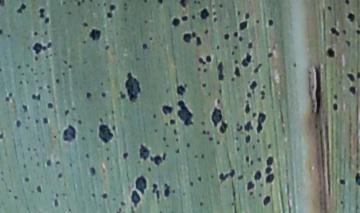tarspot: (122, 69, 141, 104), (176, 100, 195, 130), (29, 39, 55, 55), (96, 122, 114, 144), (61, 123, 77, 145), (87, 26, 104, 44), (214, 59, 227, 82), (209, 104, 222, 127), (129, 190, 143, 209), (218, 169, 237, 183), (255, 111, 267, 133), (138, 143, 151, 163), (135, 175, 148, 193), (323, 46, 338, 61), (173, 84, 189, 97), (160, 103, 174, 117), (15, 2, 29, 16), (327, 25, 340, 40), (151, 153, 167, 165), (241, 53, 253, 69), (198, 6, 209, 23), (344, 11, 357, 25), (351, 169, 360, 188), (162, 181, 171, 199), (13, 116, 23, 132), (83, 88, 94, 102), (253, 169, 264, 183), (261, 193, 272, 207), (96, 89, 110, 100), (87, 164, 98, 178), (217, 123, 230, 134), (238, 19, 248, 33), (246, 179, 256, 193), (232, 65, 242, 79), (345, 69, 355, 83), (348, 84, 357, 99), (193, 32, 202, 47), (264, 154, 275, 166), (19, 102, 31, 113), (44, 101, 57, 111), (265, 16, 275, 29), (248, 78, 258, 91), (182, 30, 192, 43), (243, 8, 253, 21), (36, 5, 45, 19), (150, 180, 159, 194), (108, 1, 119, 12), (33, 183, 44, 194), (243, 133, 253, 145), (263, 174, 275, 184), (140, 41, 150, 53), (262, 165, 275, 174), (243, 99, 251, 113), (171, 16, 180, 28), (121, 150, 130, 162), (32, 93, 44, 102), (100, 190, 109, 202), (202, 26, 211, 38), (29, 29, 41, 38), (197, 55, 205, 68), (179, 14, 190, 23), (168, 116, 177, 127), (267, 50, 276, 61), (42, 115, 50, 127), (332, 102, 339, 115), (222, 31, 231, 41), (338, 177, 347, 187), (246, 40, 254, 51), (178, 1, 189, 9), (242, 153, 250, 164), (44, 158, 52, 169), (22, 176, 33, 184), (205, 53, 212, 65), (155, 1, 170, 6), (196, 174, 204, 183), (54, 77, 61, 87)
